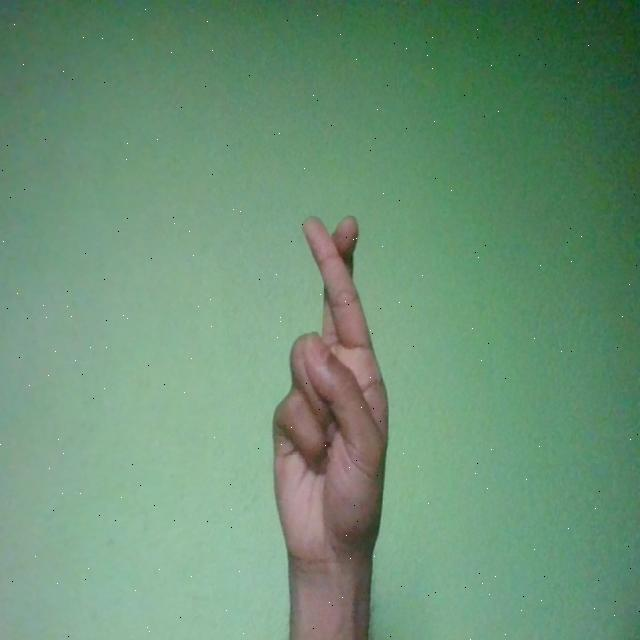Ok: (272, 215, 389, 569)
